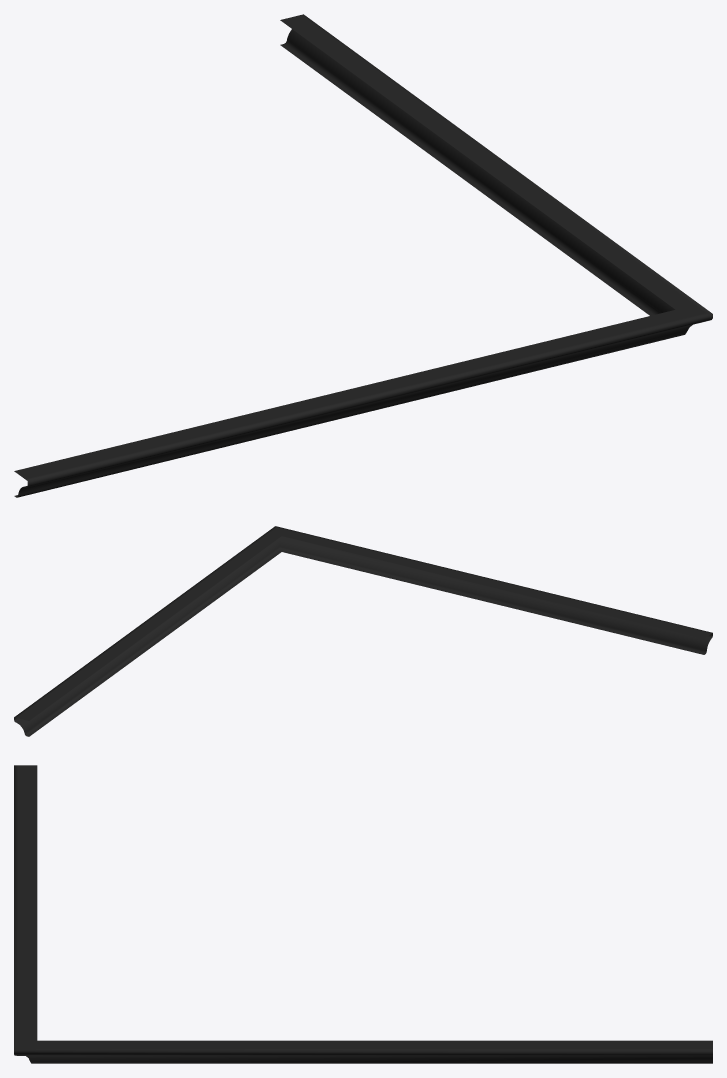
Rendered from Ceiling_BorderTurnIn.dae.
The picture shows the model from 3 angles, top to bottom: view 1: azimuth 30°, elevation 25°; view 2: azimuth 150°, elevation 25°; view 3: azimuth 270°, elevation 25°; orthographic projection. The views are drawn at different scales.
Parts seen in each view (by area): view 1: polySurface387; view 2: polySurface387; view 3: polySurface387.
Part boxes in pixels (<box>): polySurface387: <box>14,14,712,497</box>; polySurface387: <box>14,526,712,736</box>; polySurface387: <box>14,765,712,1063</box>.
Size of the model in its own units: 4 by 0.1384 by 4.14.
1 material, 1 textured.
